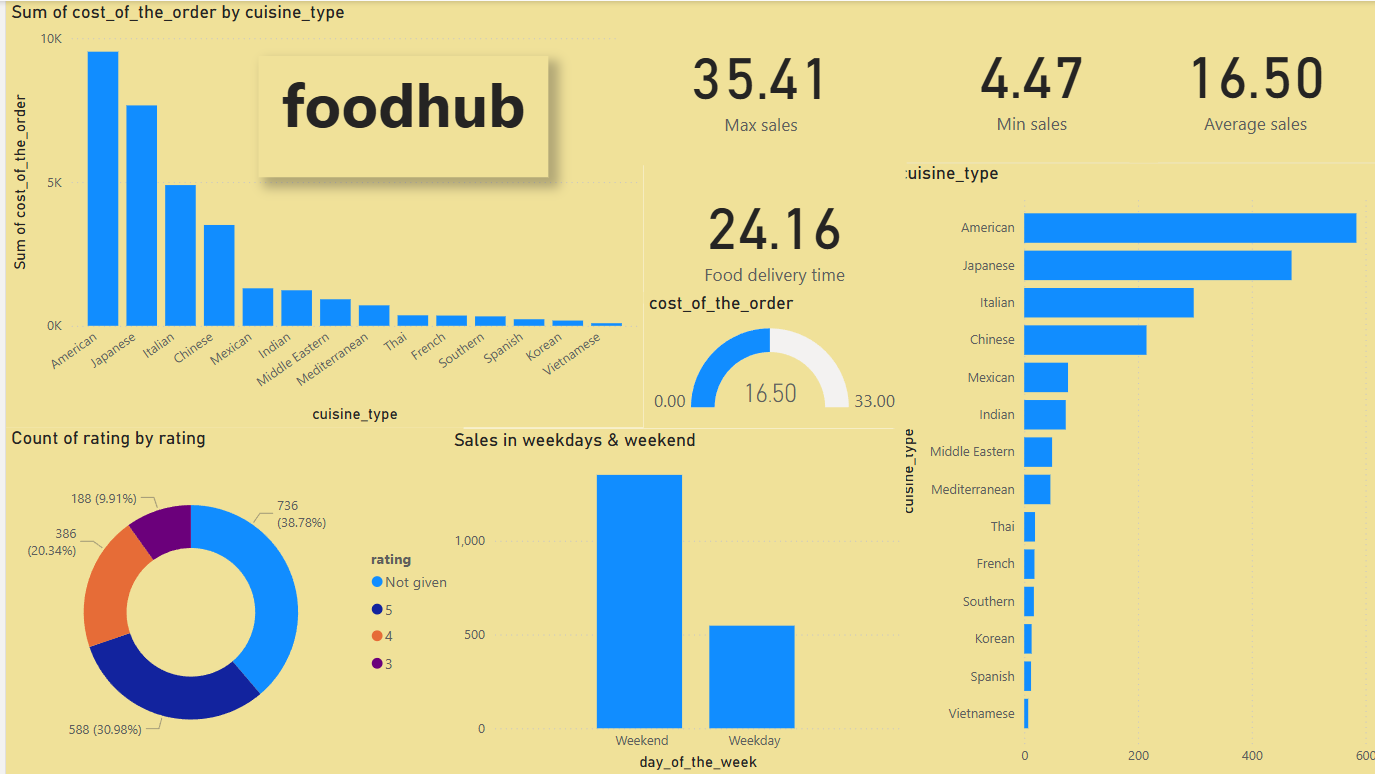

What the dashboard file says about the page in this screenshot:
{"tool":"powerbi","page":{"name":"Page 1","canvas":[1280,720],"ordinal":0},"visuals":[{"type":"barChart","title":"cuisine_type","fields":{"Y":["CountNonNull(foodhub_order.cuisine_type)"],"Category":["foodhub_order.cuisine_type"]},"box":[825.7,150,454.3,570],"z":0},{"type":"donutChart","fields":{"Y":["CountNonNull(foodhub_order.rating)"],"Category":["foodhub_order.rating"]},"box":[0,396.6,425.4,323.8],"z":1000},{"type":"clusteredColumnChart","title":"Sales in weekdays & weekend","fields":{"Y":["CountNonNull(foodhub_order.day_of_the_week)"],"Category":["foodhub_order.day_of_the_week"]},"box":[411.4,397.1,425.7,322.9],"z":2000},{"type":"clusteredColumnChart","fields":{"Category":["foodhub_order.cuisine_type"],"Y":["Sum(foodhub_order.cost_of_the_order)"]},"box":[0,0,592.9,397.1],"z":3000},{"type":"card","fields":{"Values":["Max(foodhub_order.cost_of_the_order)"]},"box":[567.1,0,270,152.9],"z":4000},{"type":"card","fields":{"Values":["Min(foodhub_order.Average delivery time)"]},"box":[592.9,150,244.3,131.4],"z":5000},{"type":"textbox","box":[297.1,60,270,112.9],"z":6000},{"type":"card","fields":{"Values":["Min(foodhub_order.cost_of_the_order)"]},"box":[837.1,0,234.3,150],"z":7000},{"type":"card","fields":{"Values":["Avg(foodhub_order.cost_of_the_order)"]},"box":[1045.7,0,234.3,150],"z":8000},{"type":"gauge","title":"cost_of_the_order","fields":{"Y":["Avg(foodhub_order.cost_of_the_order)"]},"box":[592.9,271.4,244.3,138.6],"z":9000}]}

Visuals, with their boxes in screenshot pixels (x1, y1, x2, y2), scaled from the page's 1280x720 canvas onto the 1375x774 screenshot:
"cuisine_type" barChart: 887, 161, 1374, 773
donutChart - CountNonNull(foodhub_order.rating) x foodhub_order.rating: 0, 426, 457, 773
"Sales in weekdays & weekend" clusteredColumnChart: 442, 427, 899, 773
clusteredColumnChart - foodhub_order.cuisine_type x Sum(foodhub_order.cost_of_the_order): 0, 0, 637, 427
card - Max(foodhub_order.cost_of_the_order): 609, 0, 899, 164
card - Min(foodhub_order.Average delivery time): 637, 161, 899, 303
textbox: 319, 64, 609, 186
card - Min(foodhub_order.cost_of_the_order): 899, 0, 1151, 161
card - Avg(foodhub_order.cost_of_the_order): 1123, 0, 1374, 161
"cost_of_the_order" gauge: 637, 292, 899, 441
